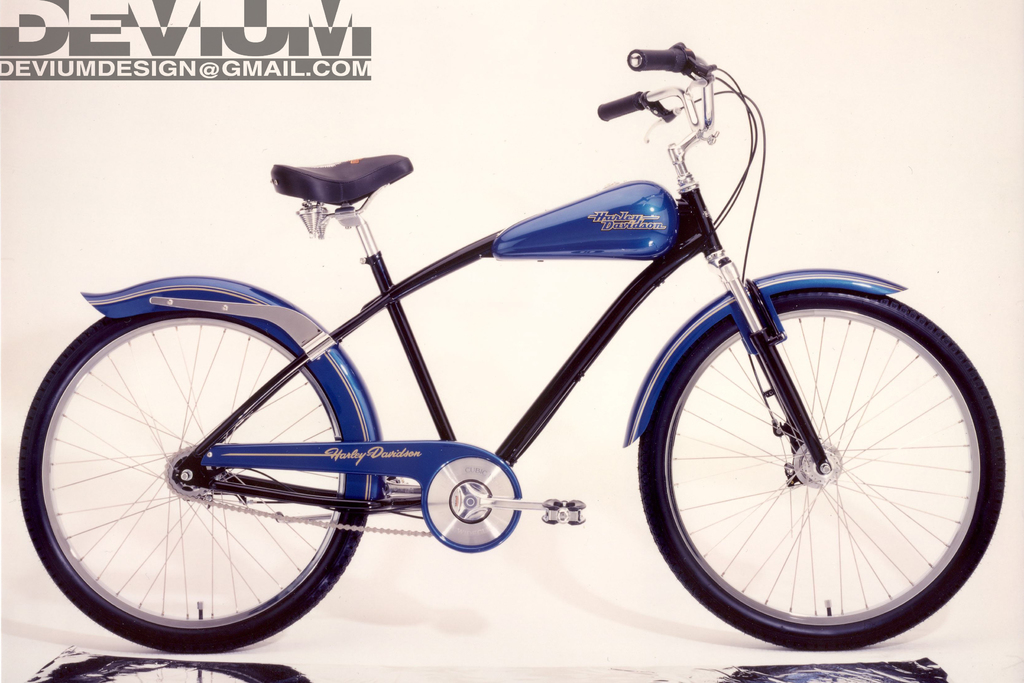Bike_toward: (55, 57, 947, 618)
